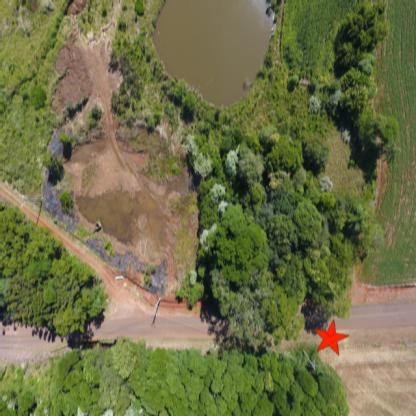star: (312, 317, 352, 358)
